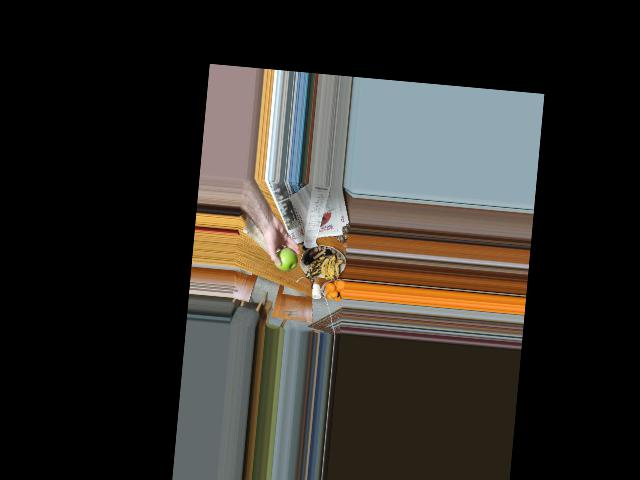apple: (272, 245, 298, 272)
